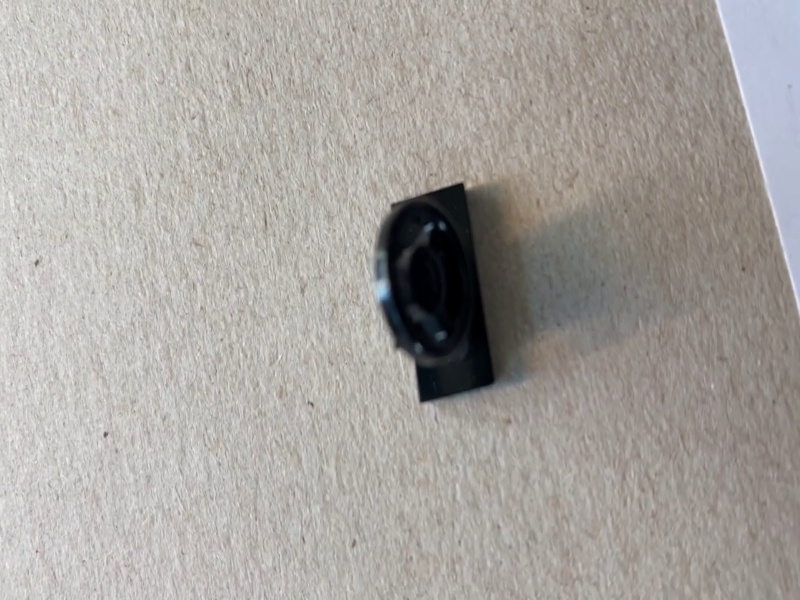steering wheel: (373, 182, 499, 403)
